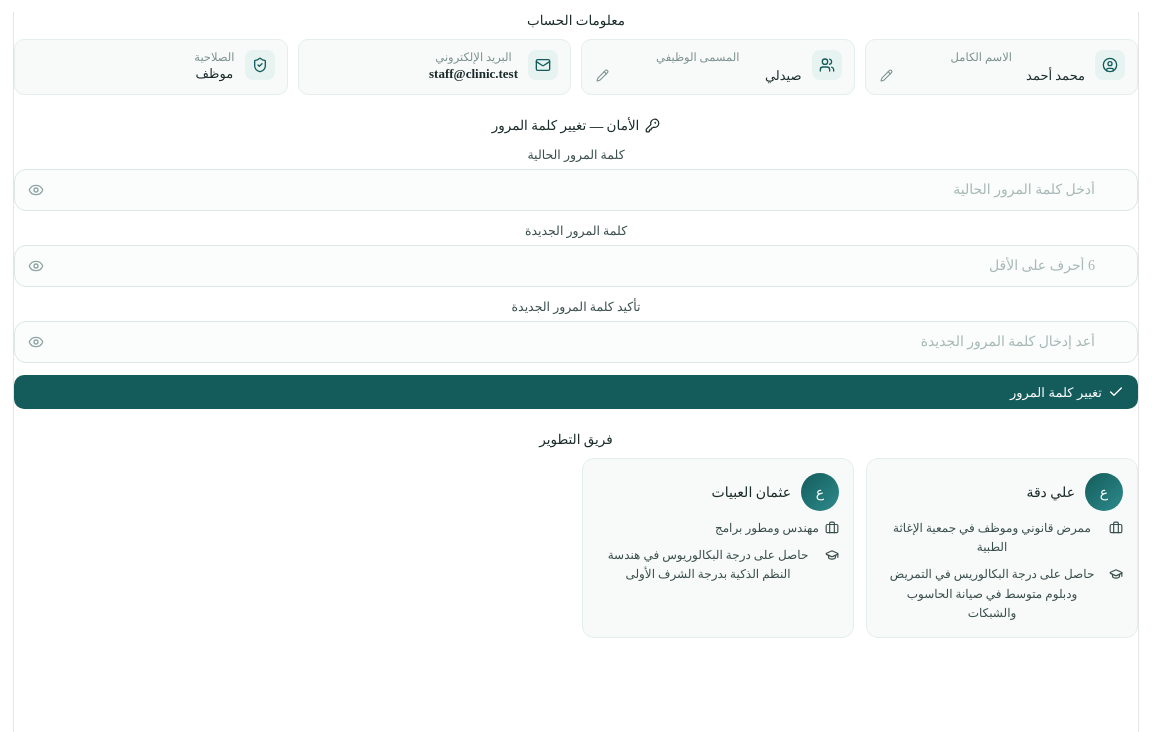
Scenario: ProfilePage — full name: edit affordance and independent edit state › clicking the full-name pencil puts ONLY the full name into edit mode, not job title
Step 1. Click the button named "تعديل الاسم الكامل" → point(886, 75), box [878,66,894,84]
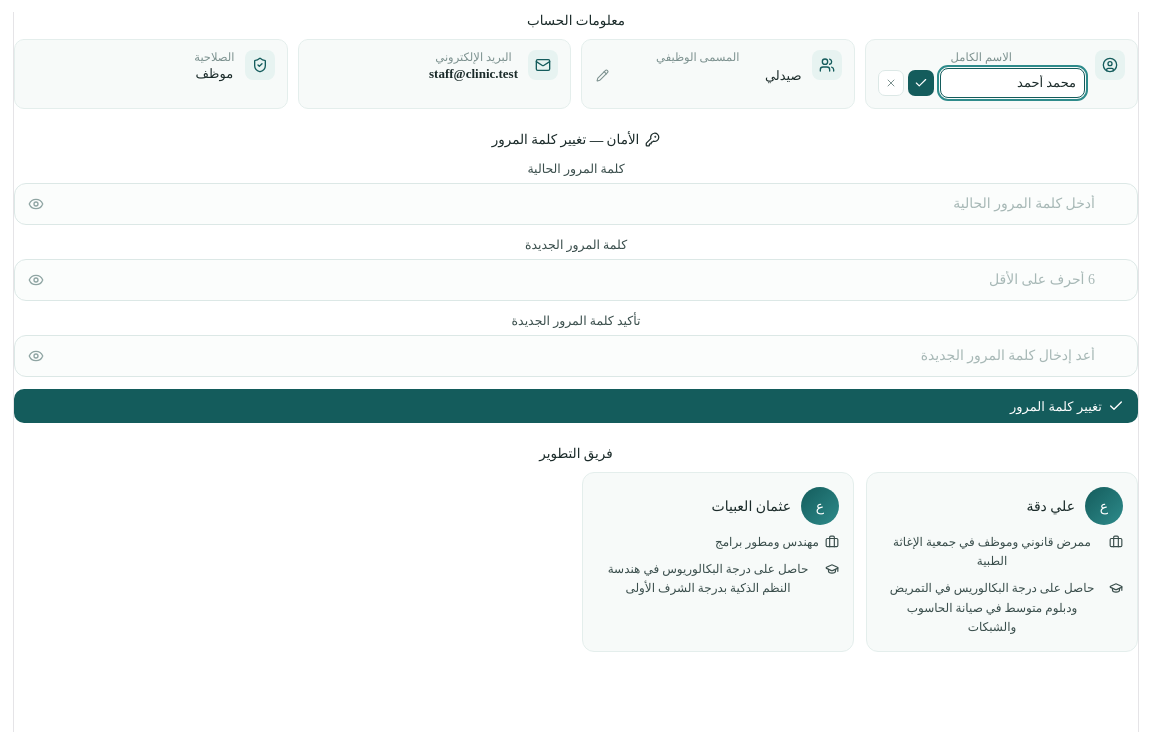
Expected: the button named "تعديل المسمى الوظيفي" is shown, [594,66,611,84]
Result: the field named "الاسم الكامل" is shown at [940,68,1085,98]
